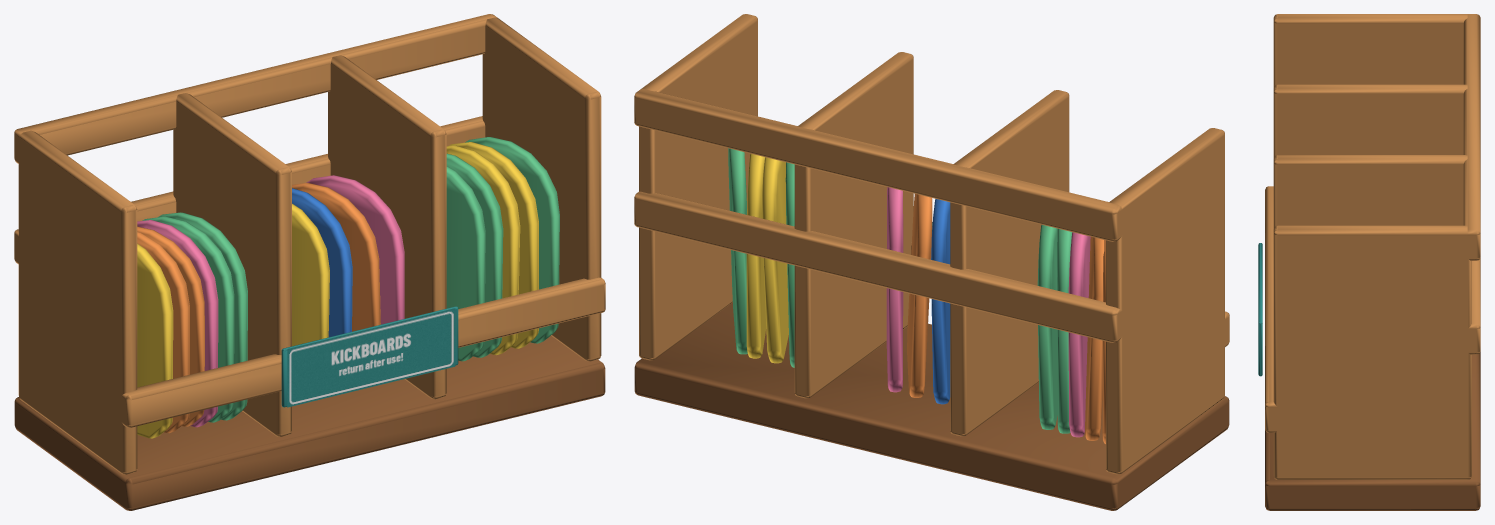
File: kickboard_rack.glb
The picture shows the model from 3 angles, left to right: view 1: azimuth 30°, elevation 25°; view 2: azimuth 150°, elevation 25°; view 3: azimuth 270°, elevation 25°; orthographic projection. The views are drawn at different scales.
Parts seen in each view (by area): view 1: KickboardRackBody; view 2: KickboardRackBody; view 3: KickboardRackBody.
Part boxes in pixels (x1,y1,x2,y2): KickboardRackBody: (14,14,605,510); KickboardRackBody: (634,14,1229,510); KickboardRackBody: (1258,14,1480,510).
Bounding box in the file's own units: 1.2 × 0.72 × 0.5155.
9 materials, 1 textured.
